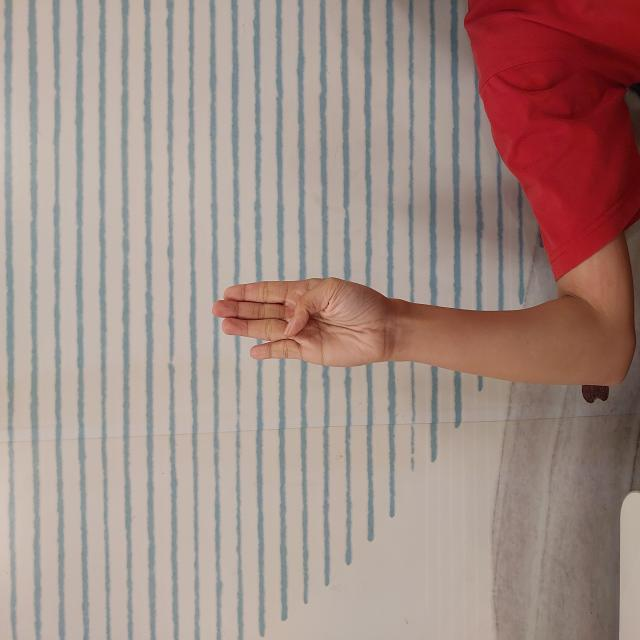B: (272, 210, 364, 392)
